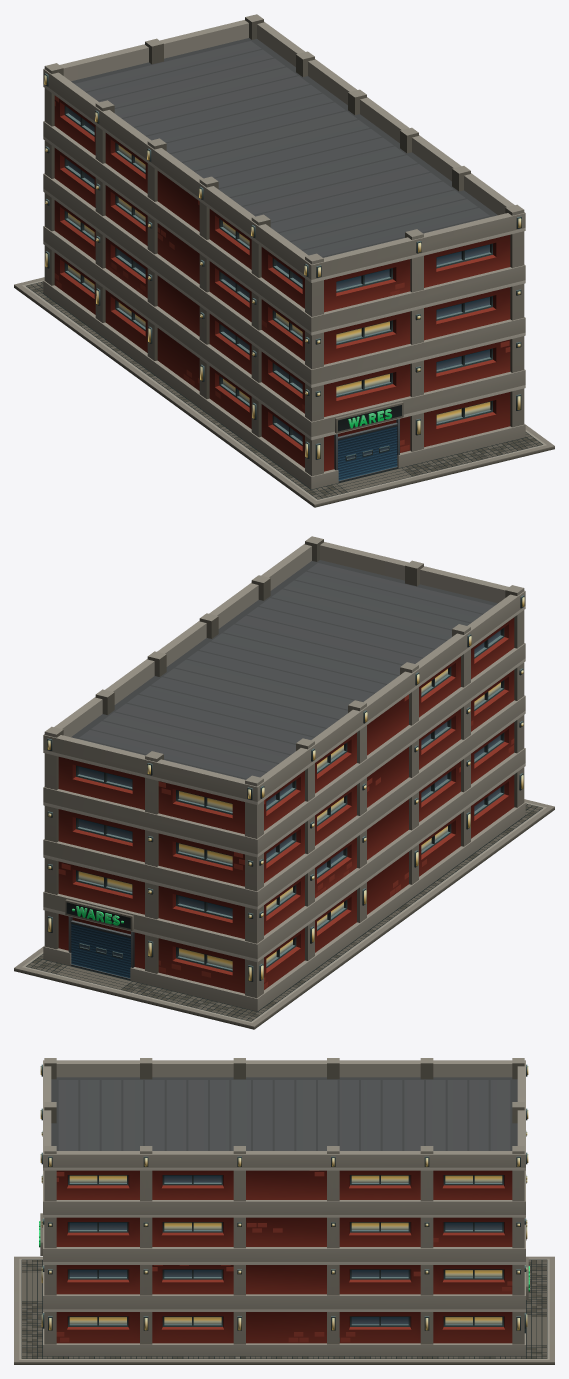
Rendered from Warehouse_4A.fbx.
The picture shows the model from 3 angles, top to bottom: view 1: azimuth 30°, elevation 25°; view 2: azimuth 150°, elevation 25°; view 3: azimuth 270°, elevation 25°; orthographic projection. The views are drawn at different scales.
Visible parts, largest first — view 1: Warehouse_4A, Warehouse_4A_Window_Lights; view 2: Warehouse_4A, Warehouse_4A_Window_Lights; view 3: Warehouse_4A, Warehouse_4A_Window_Lights.
Boxes of the visible parts, x1,y1,x2,y2 form: Warehouse_4A: (14,14,554,507); Warehouse_4A_Window_Lights: (68,145,490,422); Warehouse_4A: (14,536,554,1029); Warehouse_4A_Window_Lights: (78,669,500,968); Warehouse_4A: (14,1058,554,1364); Warehouse_4A_Window_Lights: (69,1175,502,1324).
Bounding box in the file's own units: 24 × 22 × 52.
